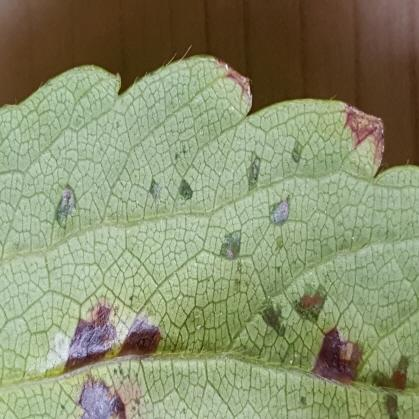Angular Leafspot: (25, 55, 418, 418)
